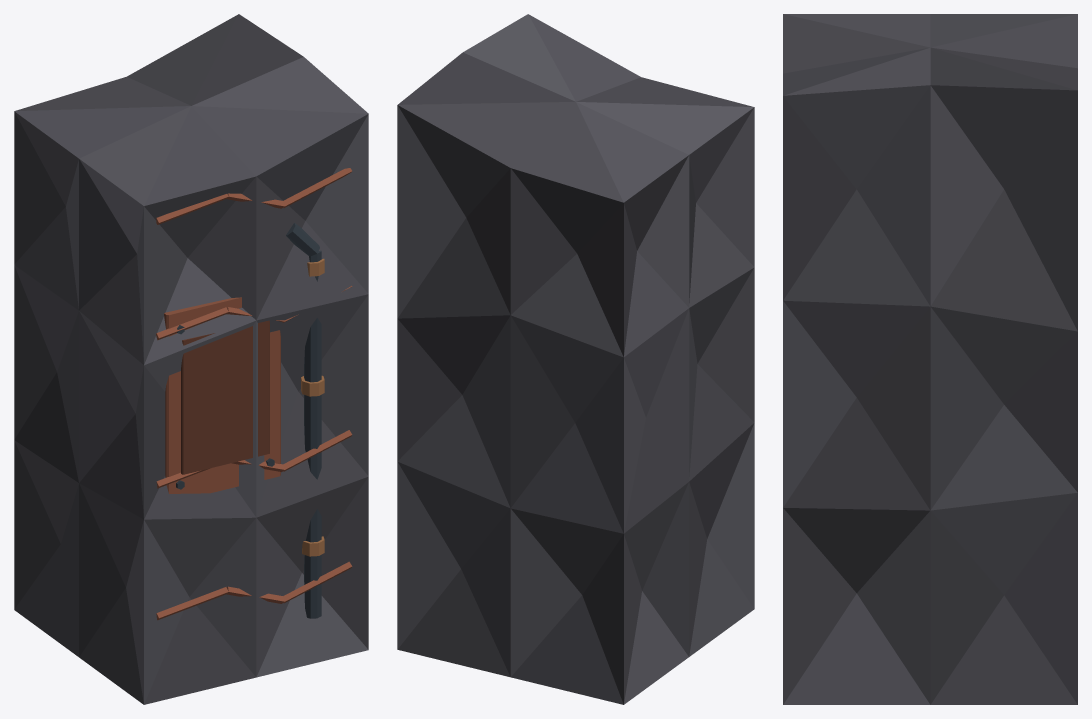
File: iron_wall_rust.glb
3 renders of one model, left to right at view 1: azimuth 30°, elevation 25°; view 2: azimuth 150°, elevation 25°; view 3: azimuth 270°, elevation 25°, orthographic. The views are drawn at different scales.
Parts seen in each view (by area): view 1: geometry; view 2: geometry; view 3: geometry.
Part boxes in pixels (left/top/right/bottom): geometry: left=14, top=14, right=368, bottom=704; geometry: left=397, top=14, right=754, bottom=704; geometry: left=783, top=14, right=1077, bottom=704.
Bounding box in the file's own units: 1 × 2.32 × 1.
